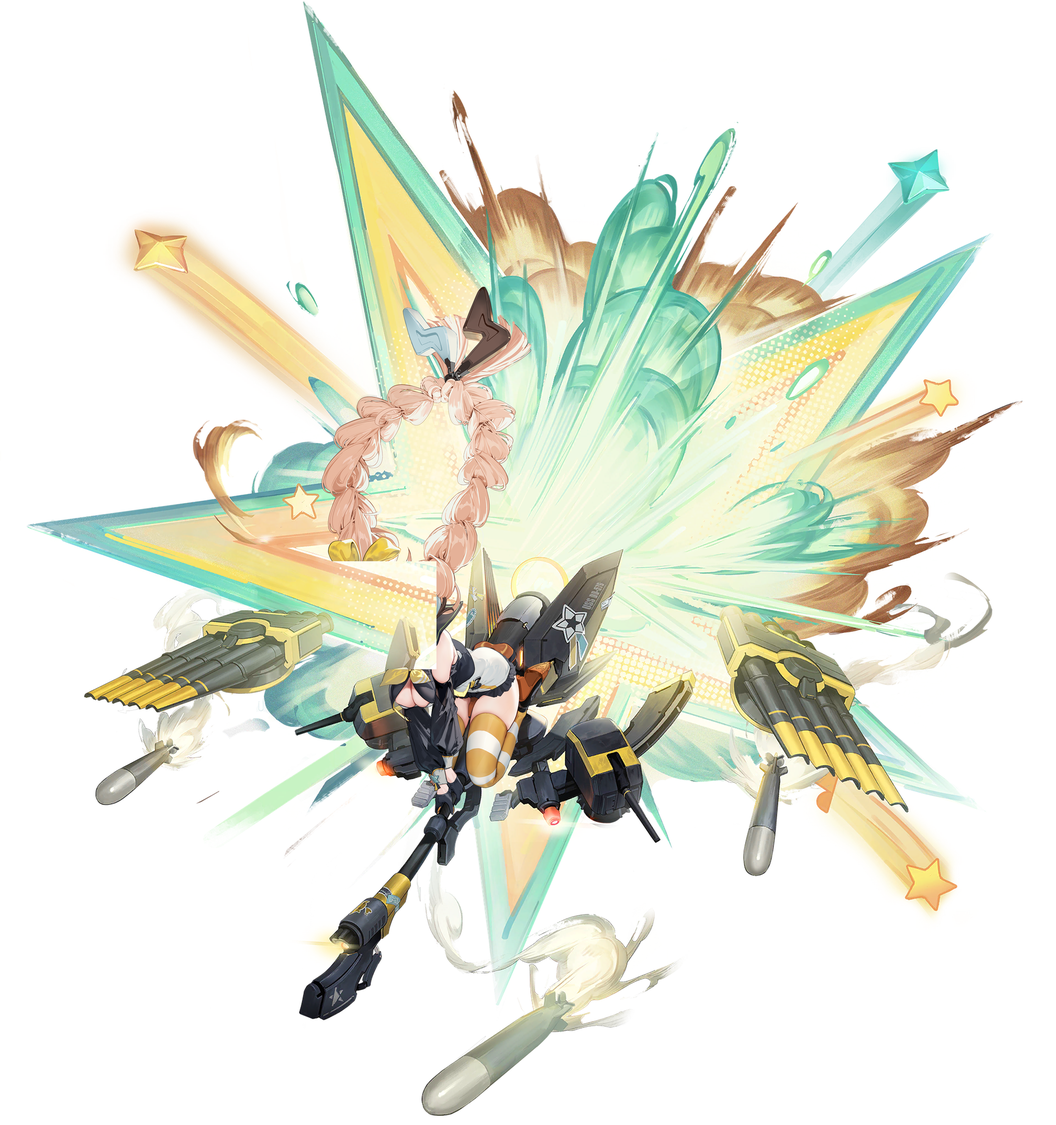person: (0, 1, 1054, 1123)
